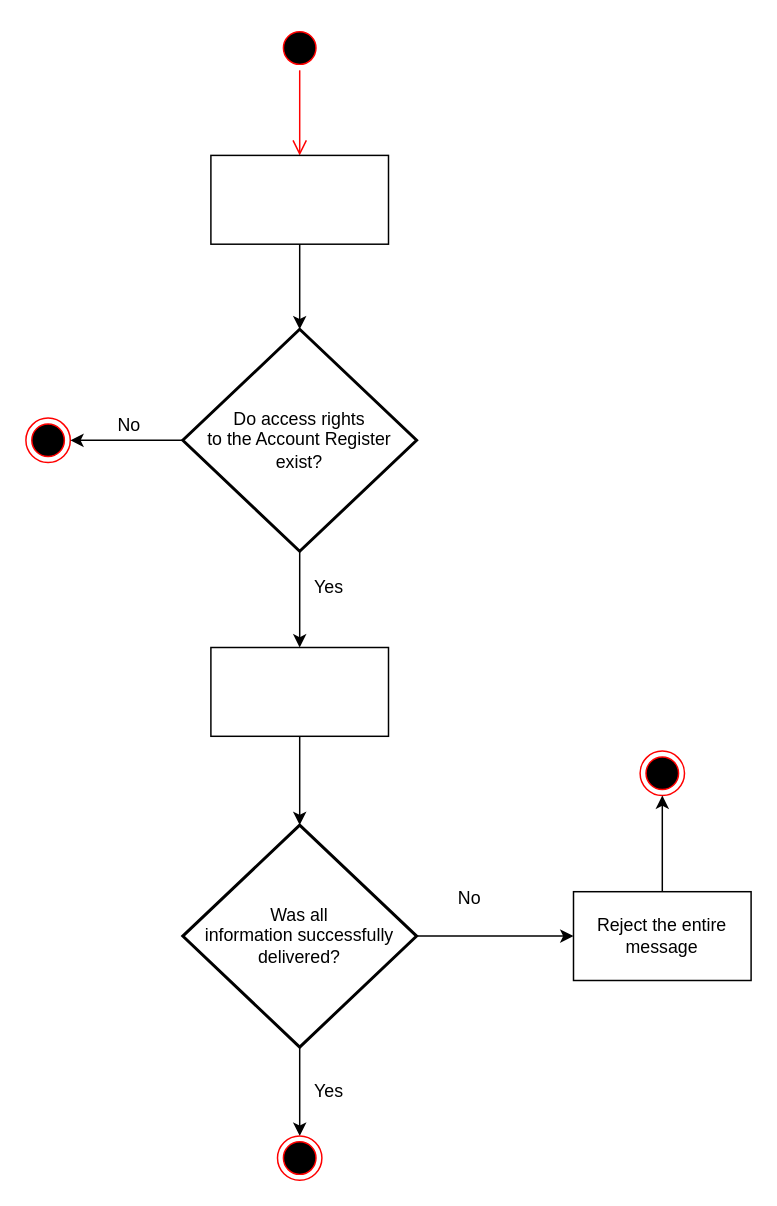
Some shapes in this 777 by 1206 pixel diagram are drawn without their labels. Here are the shapes that lost their labels. From the top down, the box of each, then its label:
(209, 154, 388, 244): Supply of data to the Account Register
(209, 646, 388, 736): Send the update message
